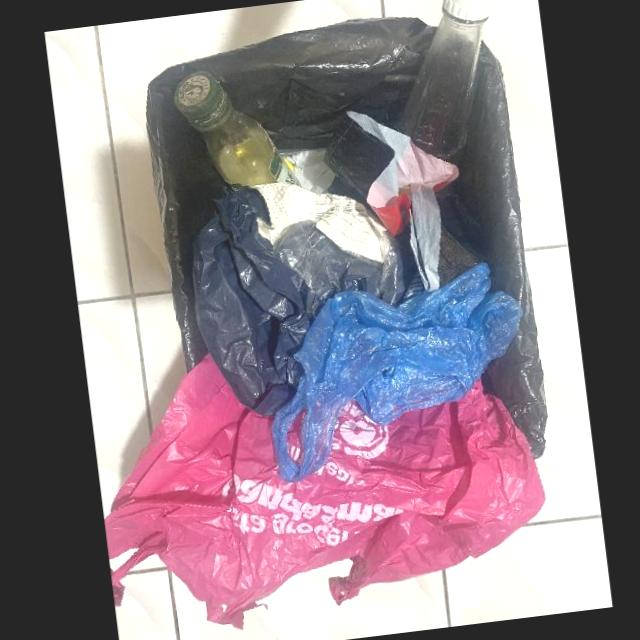chai_thuy_tinh: (396, 0, 493, 156), (174, 70, 300, 187)
tui_ni_long: (104, 351, 545, 626), (272, 265, 519, 483), (192, 182, 404, 417)
